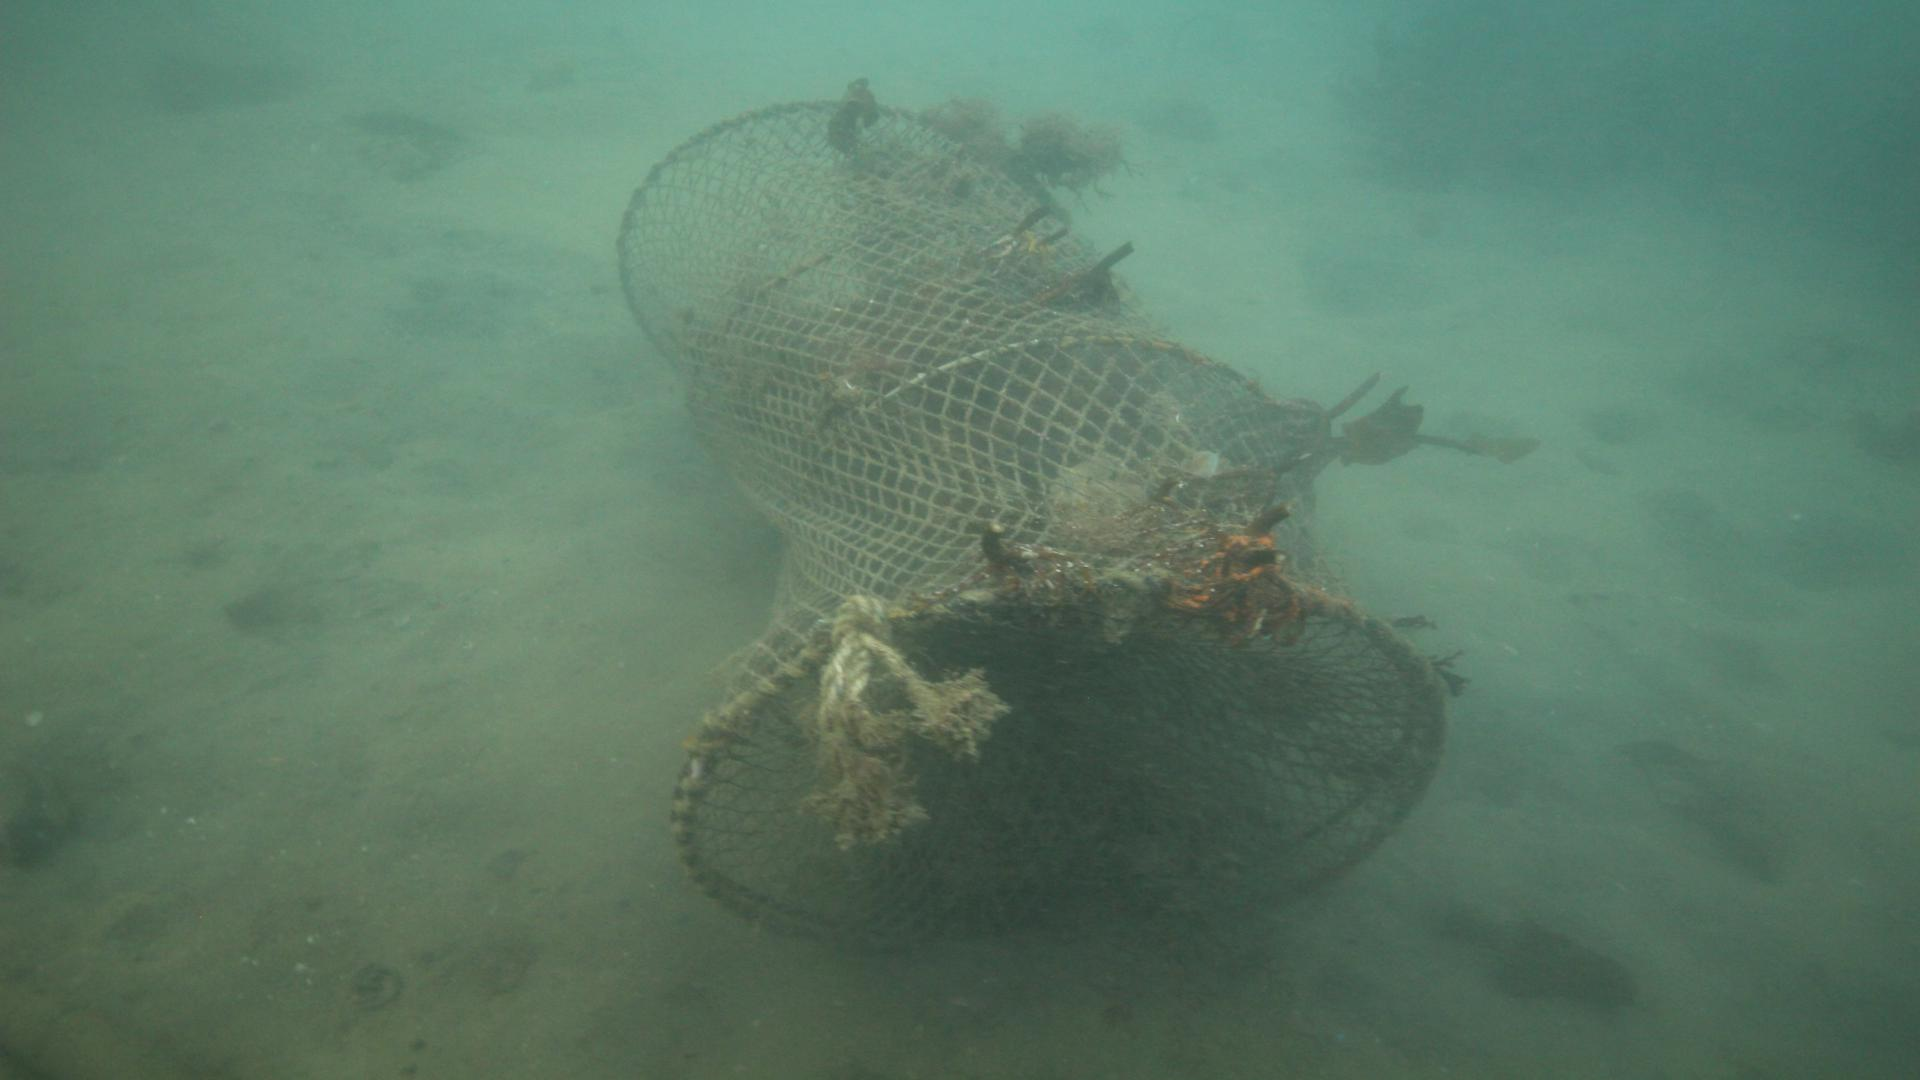spring fish trap: (611, 98, 1447, 949)
